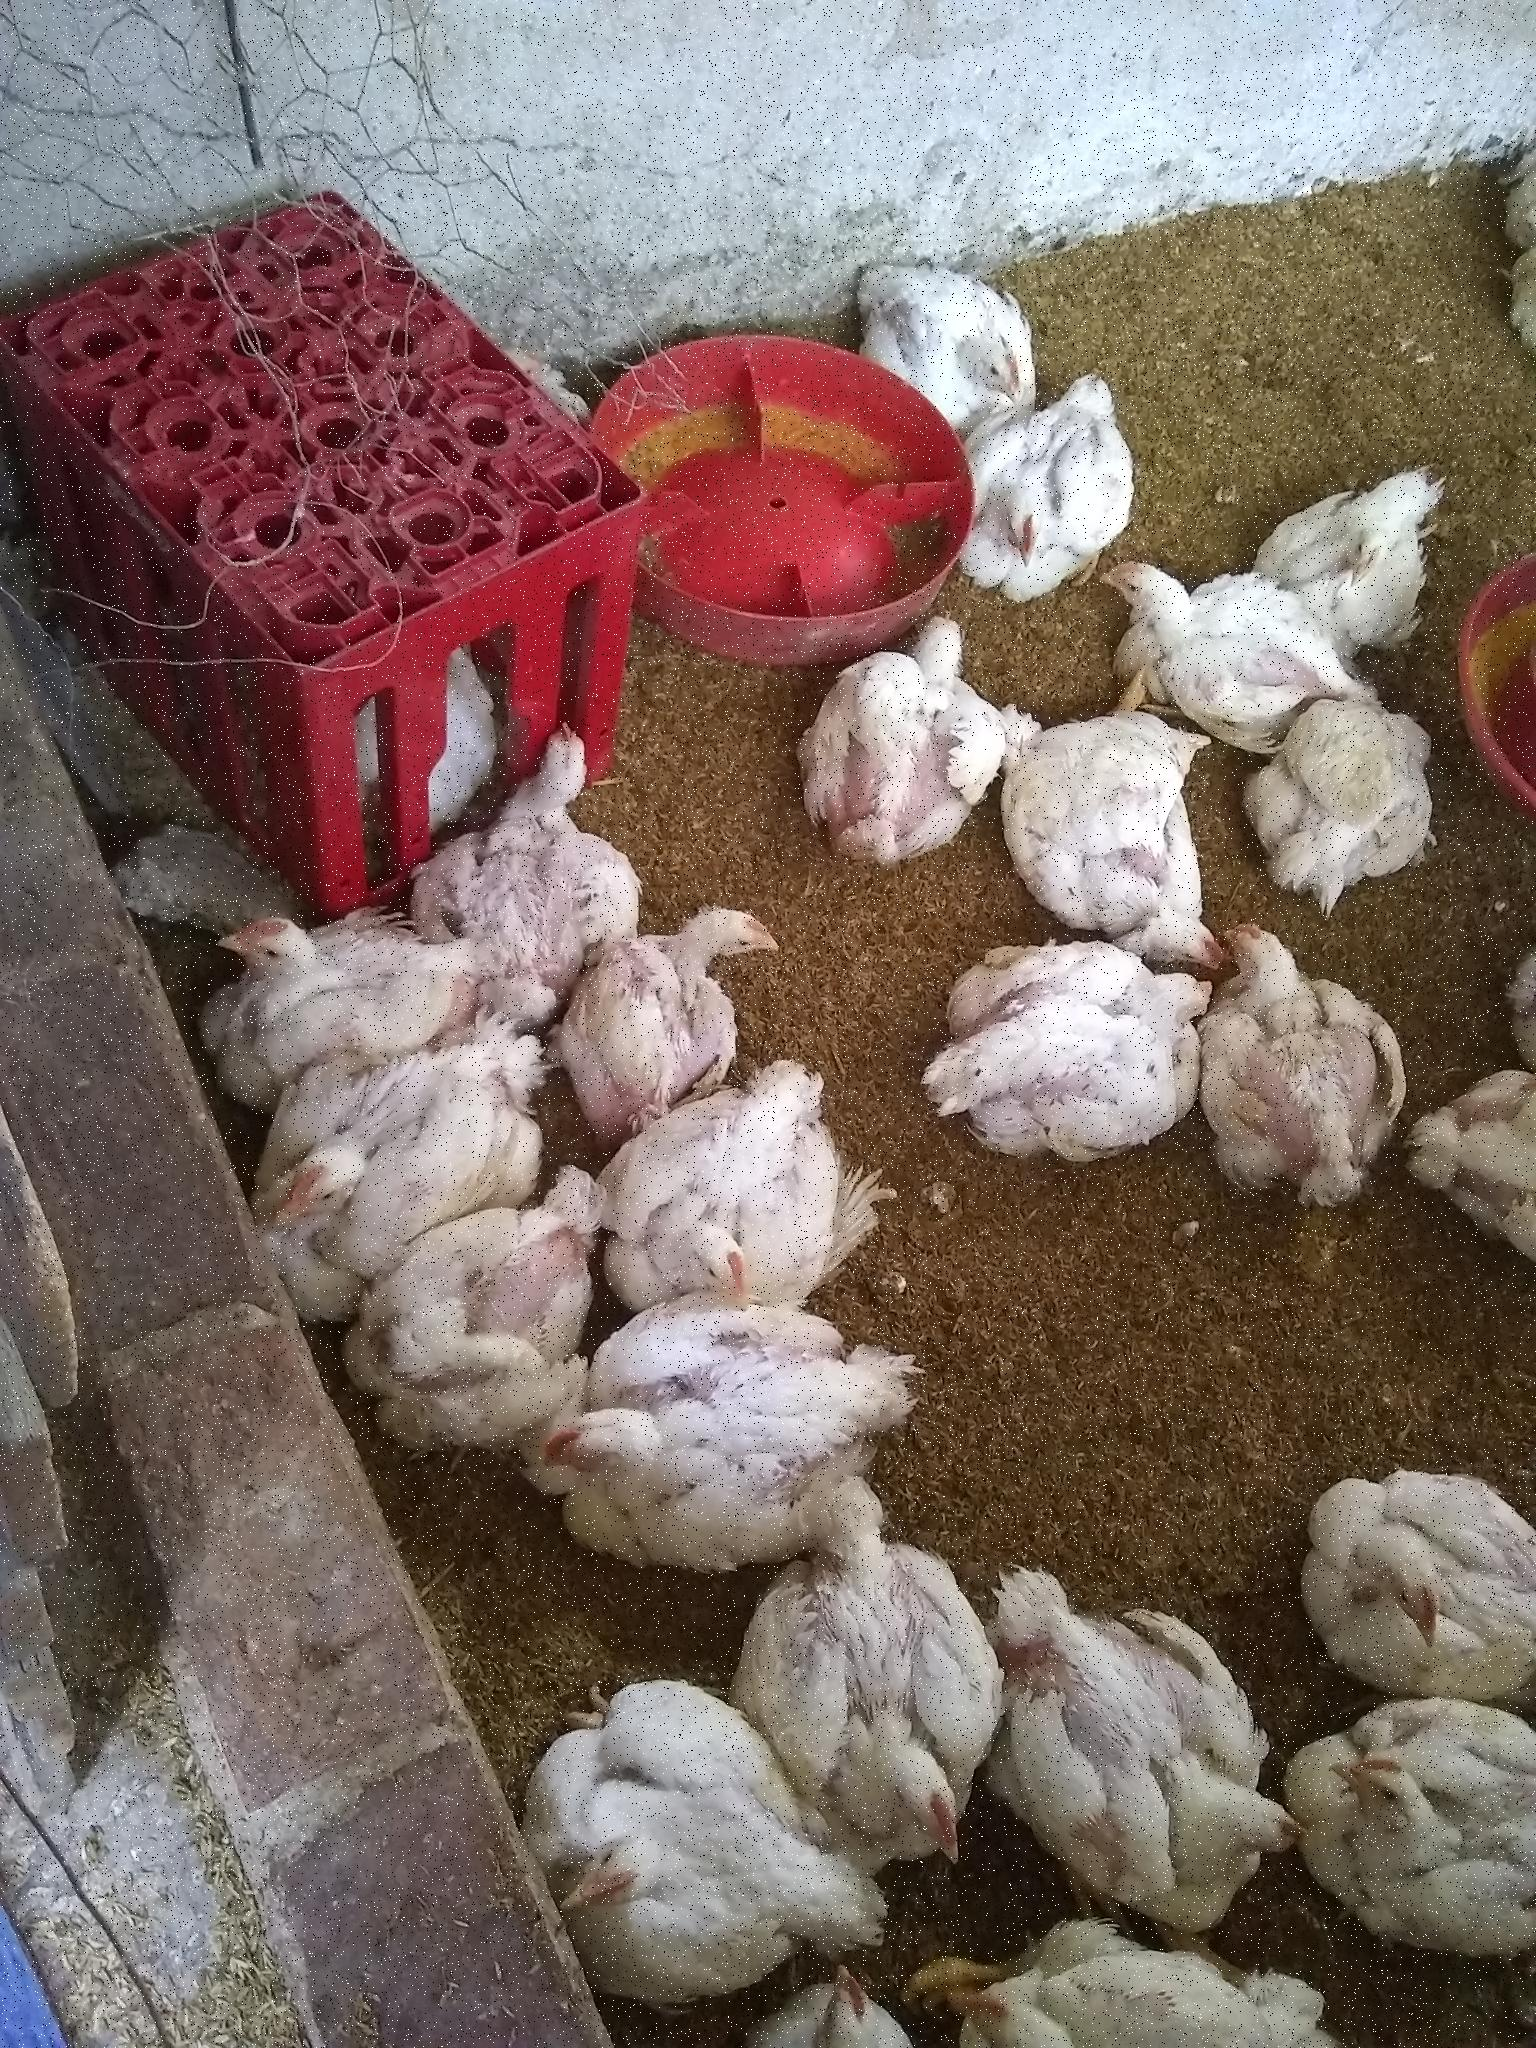Pollos: (486, 1667, 828, 2009), (997, 1563, 1292, 1913), (561, 1306, 929, 1580), (757, 1496, 992, 1882), (916, 918, 1191, 1195), (1299, 1685, 1536, 1975), (405, 714, 647, 984), (975, 706, 1217, 971), (1208, 908, 1405, 1226), (571, 913, 813, 1155), (589, 1114, 889, 1290), (1299, 1464, 1536, 1680), (253, 1089, 541, 1263), (805, 613, 992, 877), (908, 1937, 1339, 2048), (1081, 540, 1347, 719), (378, 1245, 579, 1474), (863, 208, 1070, 419), (1246, 710, 1454, 906), (211, 910, 458, 1071), (949, 397, 1112, 584), (1249, 485, 1450, 619), (1410, 1056, 1536, 1266), (737, 1967, 931, 2048)
